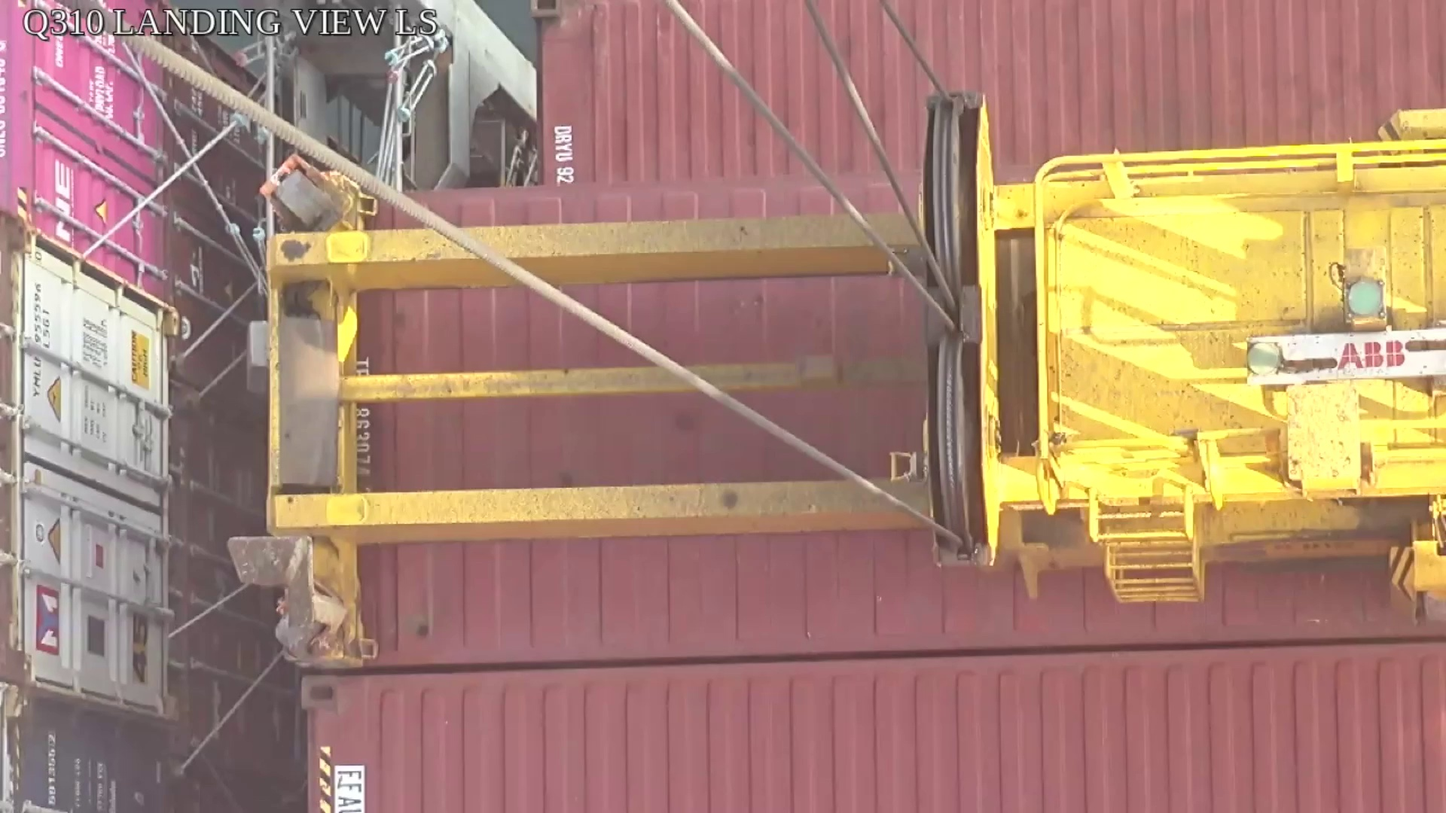aa: (914, 93, 1004, 573)
